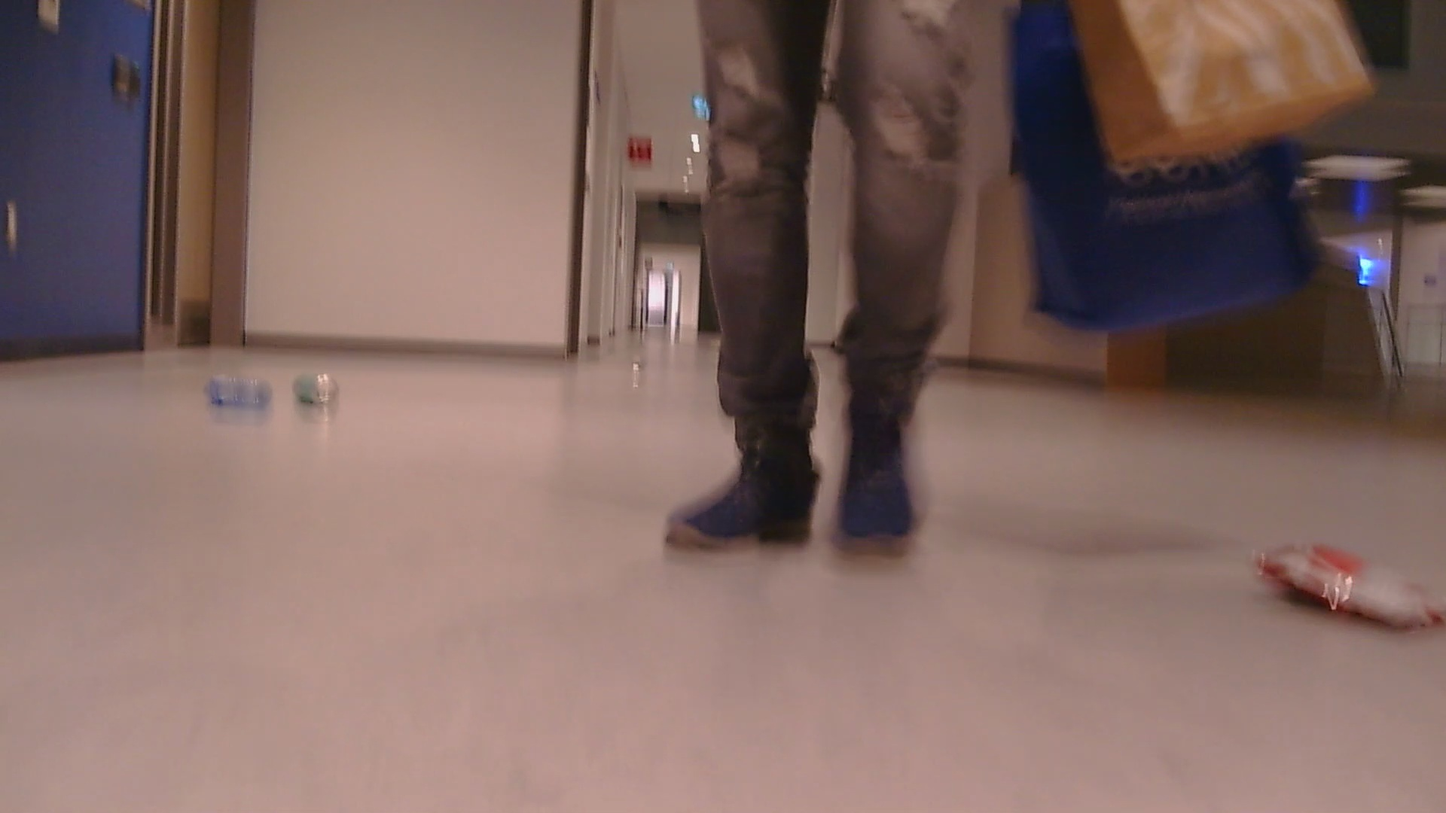carton: (1249, 512, 1446, 676), (194, 373, 282, 424), (283, 372, 336, 412)
